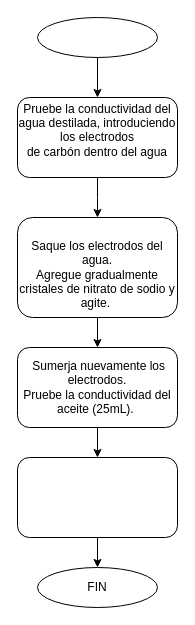
Image size: 195x625. Some labels were removed from this diagram. The centre of each missing label's shape, as x and y in pixels:
INICIO: (x=97, y=37)
Pruebe la conductividad de todas las soluciones del inciso 3.: (x=97, y=497)
